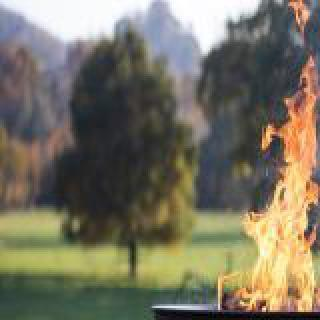fire: (242, 70, 320, 296), (314, 44, 320, 240)
